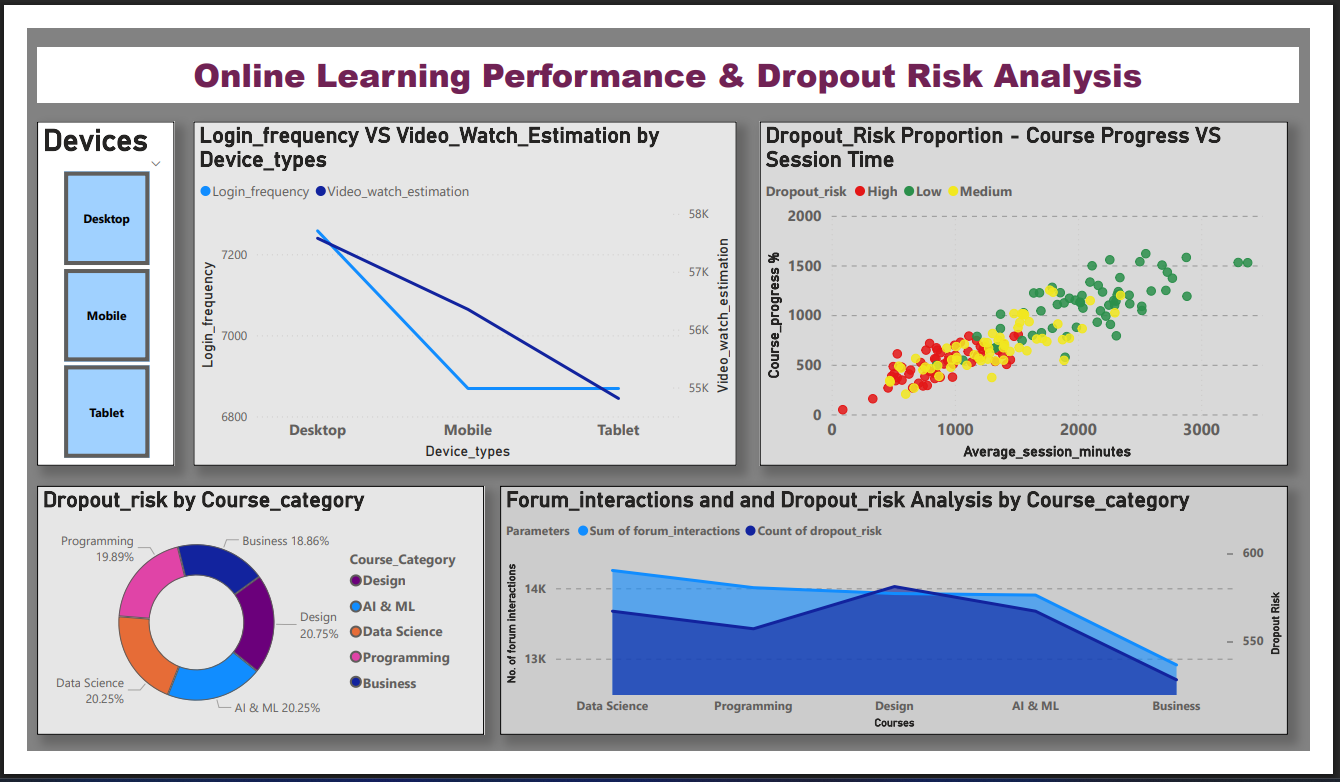

This screenshot's page, from the dashboard's own definition file:
{"tool":"powerbi","page":{"name":"Page 2","canvas":[1280,720],"ordinal":1},"visuals":[{"type":"textbox","box":[9.6,19.2,1259.7,54.9],"z":0},{"type":"scatterChart","title":"Dropout_Risk Proportion - Course Progress VS Session Time ","fields":{"X":["Sum(online_learning_engagement_dropout_risk.avg_session_minutes)"],"Y":["Sum(online_learning_engagement_dropout_risk.course_progress_percent)"],"Series":["online_learning_engagement_dropout_risk.dropout_risk"],"Category":["online_learning_engagement_dropout_risk.quiz_average_score"]},"box":[731.4,93.3,526.9,343.1],"z":1},{"type":"lineChart","title":"Login_frequency VS Video_Watch_Estimation by Device_types","fields":{"Category":["online_learning_engagement_dropout_risk.device_type"],"Y2":["Sum(online_learning_engagement_dropout_risk.video_watch_percent)"],"Y":["Sum(online_learning_engagement_dropout_risk.login_frequency_per_week)"]},"box":[166,93.3,542,343.1],"z":2},{"type":"slicer","title":"Devices","fields":{"Values":["online_learning_engagement_dropout_risk.device_type"]},"box":[9.6,93.3,137.2,343.1],"z":3},{"type":"donutChart","title":"Dropout_risk by Course_category","fields":{"Category":["online_learning_engagement_dropout_risk.course_category"],"Y":["CountNonNull(online_learning_engagement_dropout_risk.dropout_risk)"]},"box":[9.6,455.6,446,248.4],"z":4},{"type":"areaChart","title":"Forum_interactions and and Dropout_risk Analysis  by Course_category","fields":{"Category":["online_learning_engagement_dropout_risk.course_category"],"Y":["Sum(online_learning_engagement_dropout_risk.forum_interactions)"],"Y2":["CountNonNull(online_learning_engagement_dropout_risk.dropout_risk)"]},"box":[472,455.6,786.3,248.4],"z":5}]}

Visuals, with their boxes in screenshot pixels (x1, y1, x2, y2):
textbox: pyautogui.locateOnScreen(0, 38, 1339, 97)
"Dropout_Risk Proportion - Course Progress VS Session Time " scatterChart: pyautogui.locateOnScreen(769, 117, 1333, 485)
"Login_frequency VS Video_Watch_Estimation by Device_types" lineChart: pyautogui.locateOnScreen(164, 117, 744, 485)
"Devices" slicer: pyautogui.locateOnScreen(0, 117, 143, 485)
"Dropout_risk by Course_category" donutChart: pyautogui.locateOnScreen(0, 505, 474, 771)
"Forum_interactions and and Dropout_risk Analysis  by Course_category" areaChart: pyautogui.locateOnScreen(491, 505, 1333, 771)
